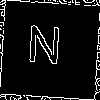N: (25, 25, 63, 74)
